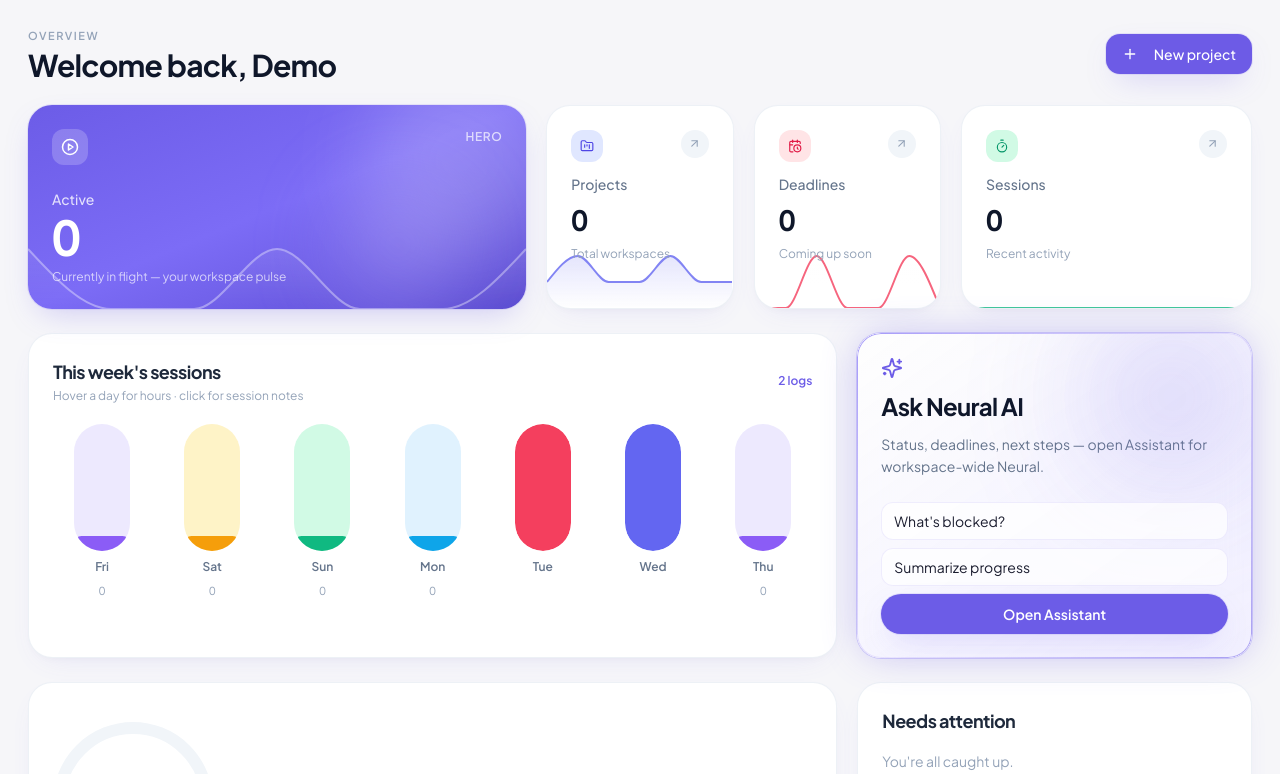
Scenario: Dashboard Page › opens New Project creation modal when New Project button is clicked
What coordinates should you click on to do the following:
click the button "New project"
I would click on:
 (1179, 54)
Its box is [1106,34,1252,74].
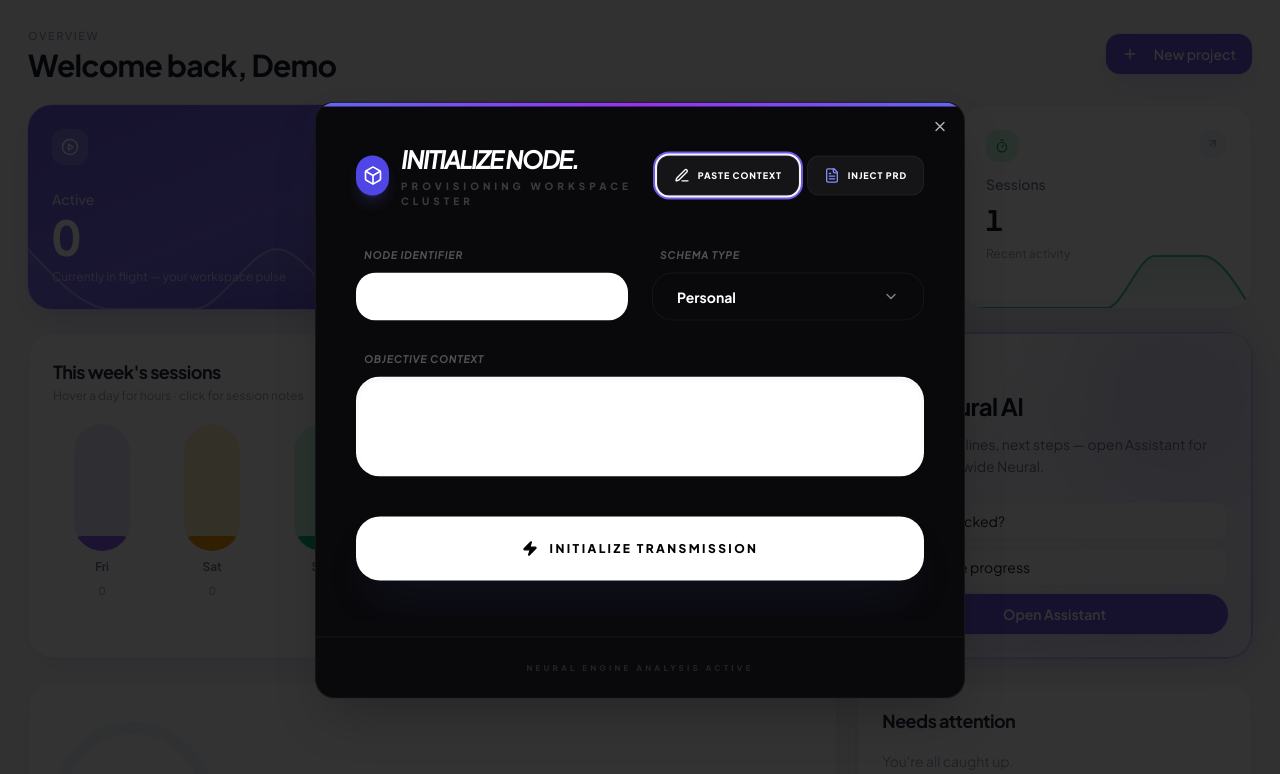
Now the heading "Initialize Node." is shown, box [401,144,578,174]
